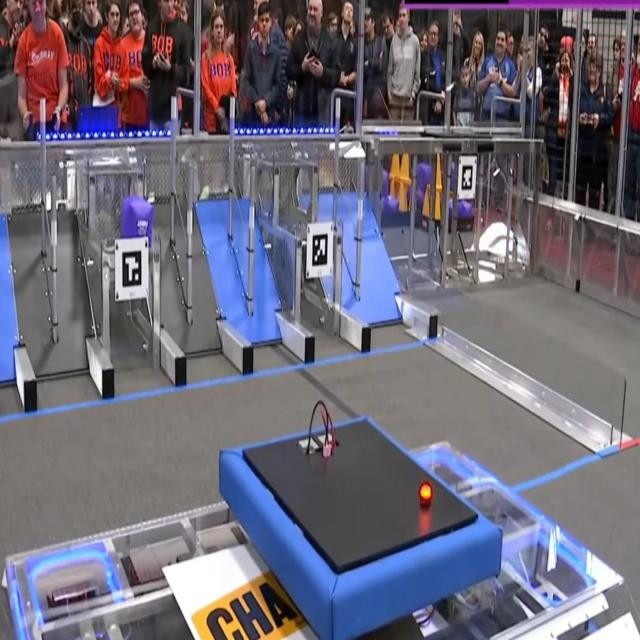frc_cone: (436, 192, 446, 229), (398, 153, 409, 185), (398, 185, 408, 219), (433, 155, 442, 188), (389, 155, 400, 177), (422, 190, 429, 222)
frc_cube: (121, 195, 151, 245), (420, 168, 434, 188), (415, 158, 425, 184), (461, 198, 472, 220), (386, 192, 396, 215), (448, 198, 457, 223), (418, 186, 426, 210), (451, 160, 456, 194), (382, 168, 389, 186)
